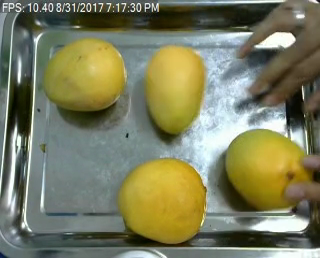Mango: (117, 157, 204, 244), (225, 129, 308, 207), (47, 38, 128, 109), (148, 46, 205, 135)
